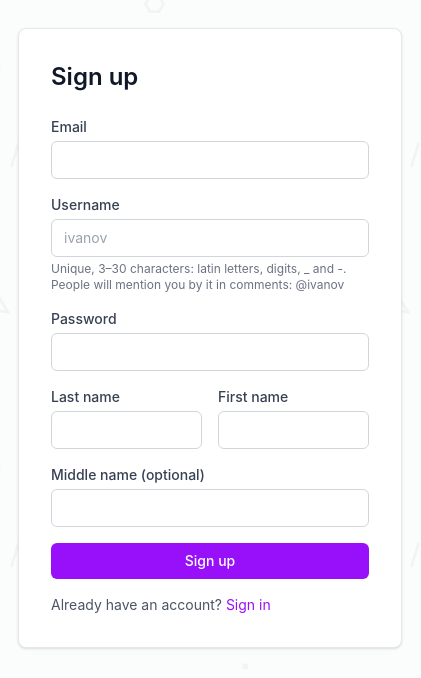
Test: RegisterPage › никнейм не по формату не уходит на сервер
Type "user@example.com" into the field labelled "Email" at [210, 160], box [51,141,369,179]
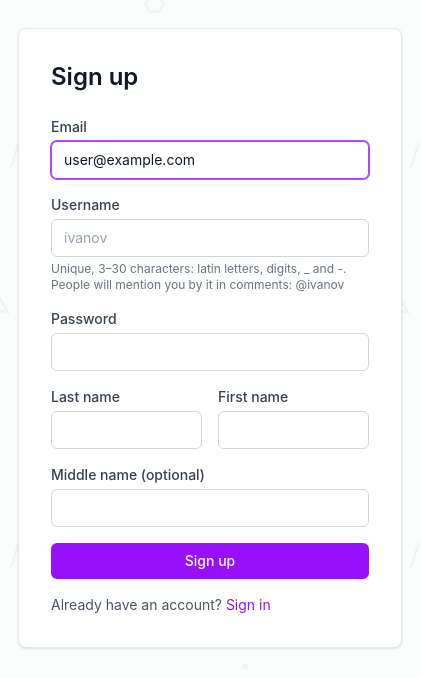
Type "ivan.ov" into the field labelled "Username" at [210, 238], box [51,219,369,257]
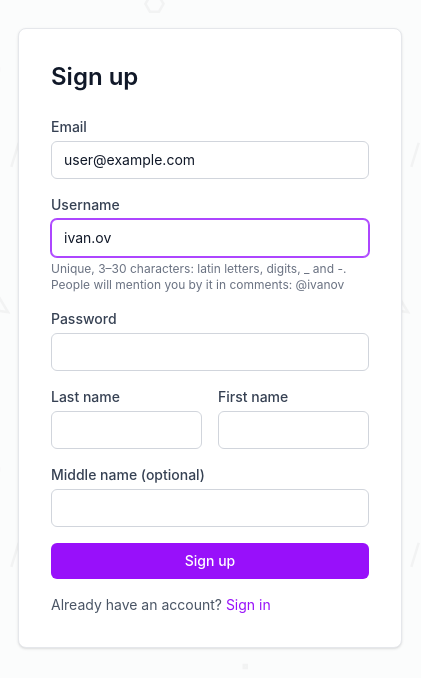
Type "long-enough-password" into the password field labelled "Password" at [210, 352], box [51,333,369,371]
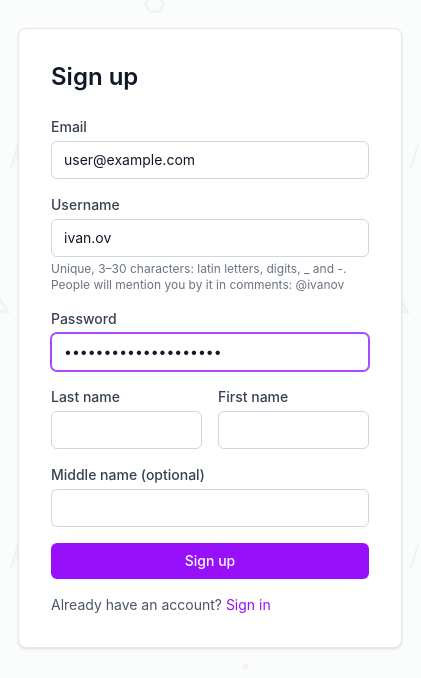
Type "Иванов" into the field labelled "Last name" at [126, 430], box [51,411,202,449]
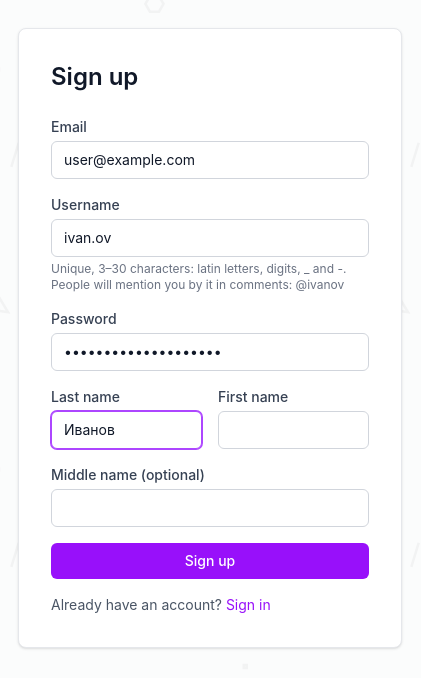
Type "Иван" into the field labelled "First name" at [294, 430], box [218,411,369,449]
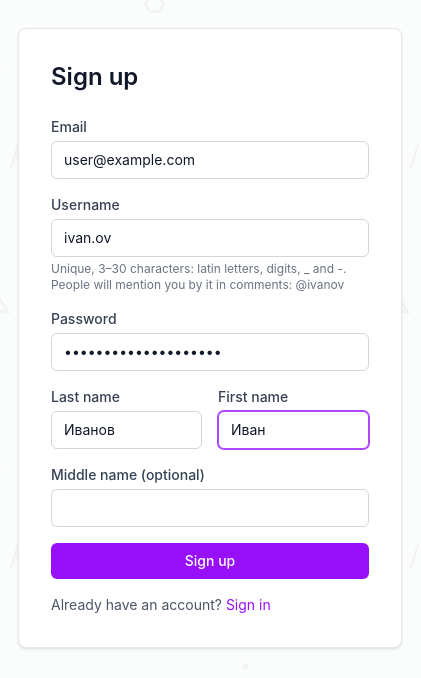
Click the button "Sign up" at [210, 561], box [51,543,369,579]
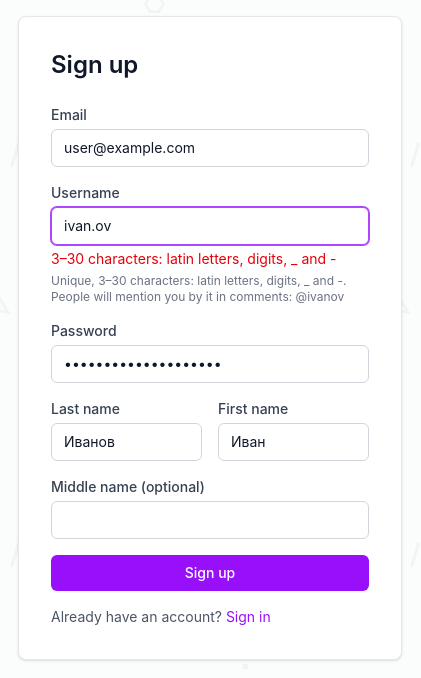
Result: the text "3–30 characters: latin letters, digits, _ and -" is shown at [51,249,369,269]
